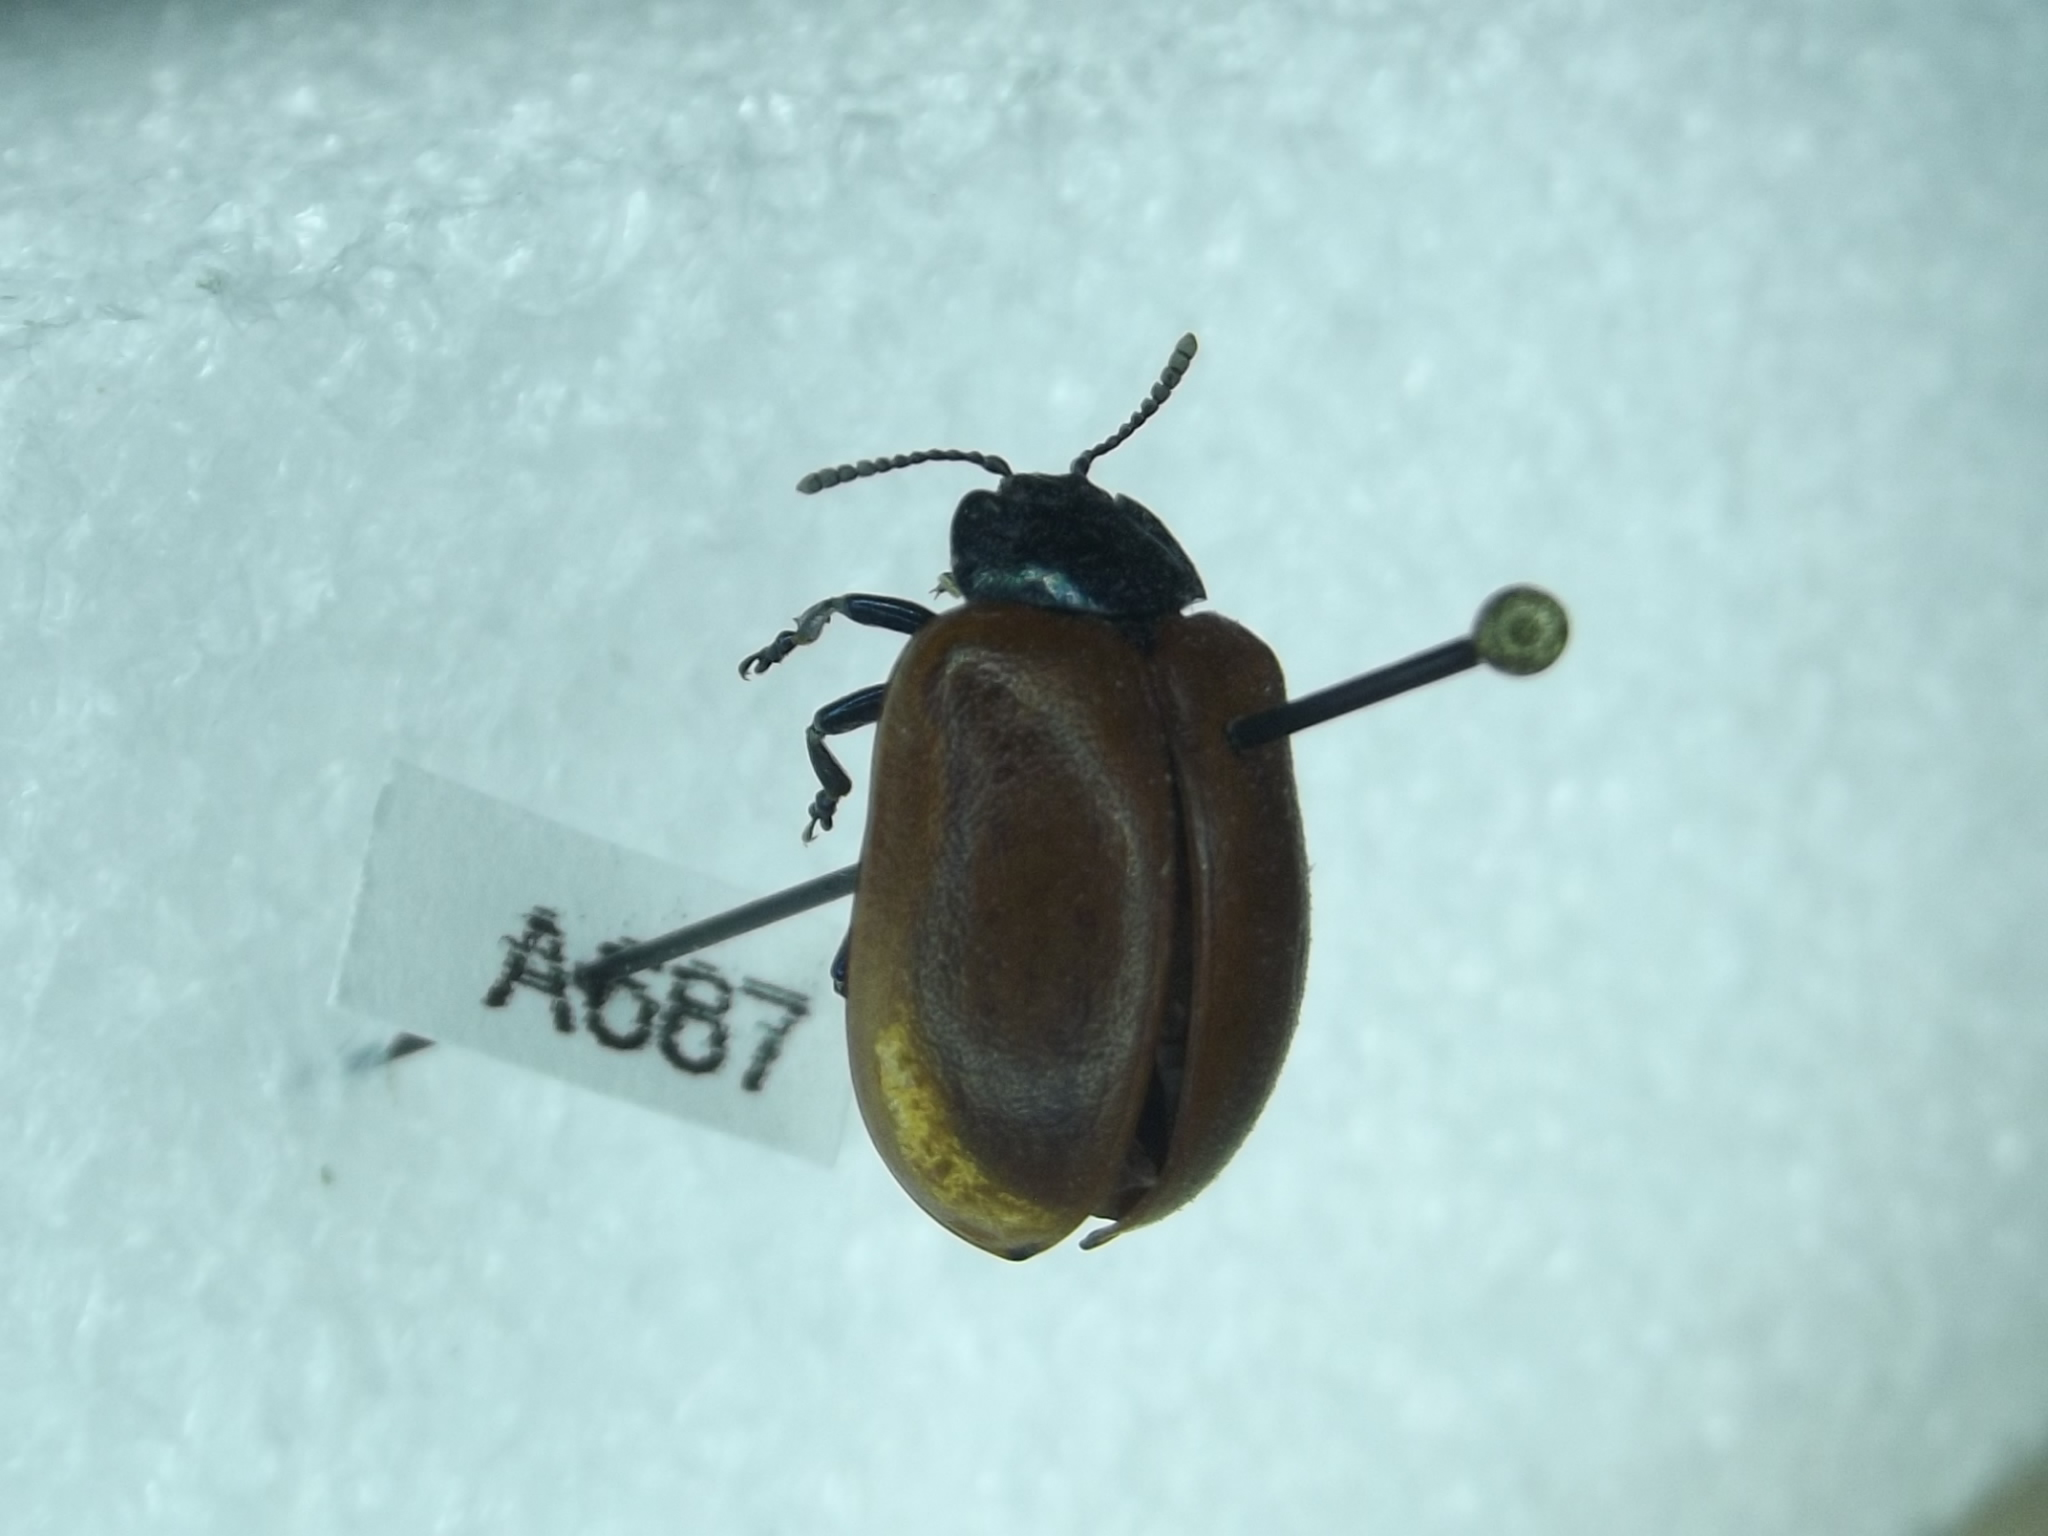Chrysomela_populi: (727, 310, 1314, 1289)
